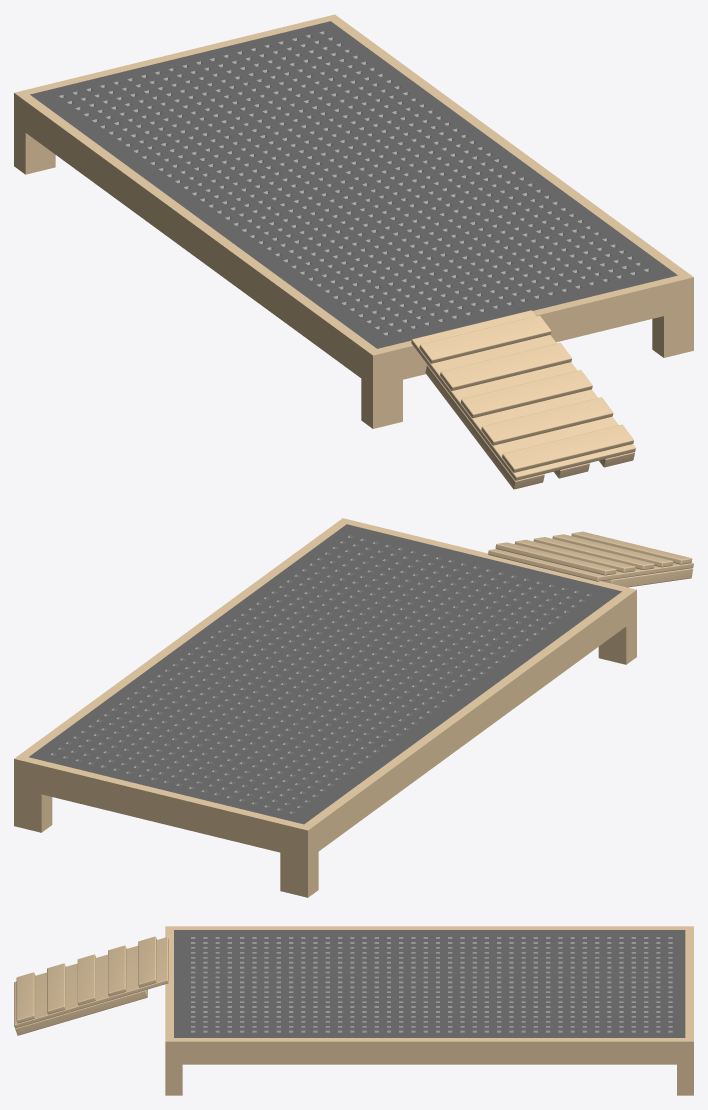
The model's file is HustleDeck.gltf.
3 renders of one model, top to bottom at view 1: azimuth 30°, elevation 25°; view 2: azimuth 150°, elevation 25°; view 3: azimuth 270°, elevation 25°, orthographic. The views are drawn at different scales.
Parts seen in each view (by area): view 1: Platform-Rubber - Bumpy, Deck, Platform, Body1, Body5, Body4, Body3, Body6, Body7, Front Left Leg, Front Right Leg, Back Left Leg (+1 smaller); view 2: Platform-Rubber - Bumpy, Deck, Platform, Body1, Back Left Leg, Back Right Leg, Body6, Front Left Leg, Body4, Body3, Body5, Body7 (+1 smaller); view 3: Platform-Rubber - Bumpy, Deck, Platform, Body1, Body2, Body7, Body4, Body6, Body3, Body5, Front Right Leg, Back Right Leg.
Boxes of the visible parts, x1,y1,x2,y2 form: Platform-Rubber - Bumpy: [30, 21, 677, 348]; Deck: [14, 14, 693, 386]; Platform: [59, 31, 650, 335]; Body1: [411, 310, 635, 480]; Body5: [460, 370, 592, 418]; Body4: [481, 397, 613, 445]; Body3: [440, 343, 571, 390]; Body6: [419, 315, 551, 363]; Body7: [502, 424, 633, 472]; Front Left Leg: [361, 379, 402, 428]; Front Right Leg: [652, 309, 693, 357]; Back Left Leg: [14, 124, 55, 174]; Platform-Rubber - Bumpy: [29, 524, 621, 824]; Deck: [14, 518, 636, 859]; Platform: [50, 535, 592, 813]; Body1: [488, 549, 693, 581]; Back Left Leg: [280, 852, 318, 897]; Back Right Leg: [14, 787, 52, 832]; Body6: [495, 542, 616, 575]; Front Left Leg: [598, 619, 636, 664]; Body4: [552, 534, 673, 567]; Body3: [514, 539, 635, 572]; Body5: [533, 537, 654, 569]; Body7: [571, 531, 692, 564]; Platform-Rubber - Bumpy: [174, 930, 685, 1037]; Deck: [165, 926, 693, 1064]; Platform: [191, 937, 672, 1032]; Body1: [14, 937, 168, 1028]; Body2: [15, 989, 147, 1035]; Body7: [16, 972, 35, 1023]; Body4: [47, 963, 65, 1014]; Body6: [138, 936, 156, 987]; Body3: [108, 945, 126, 996]; Body5: [77, 954, 95, 1005]; Front Right Leg: [165, 1064, 182, 1095]; Back Right Leg: [677, 1064, 693, 1095].
Size of the model in its own units: 64 by 15.16 by 160.
